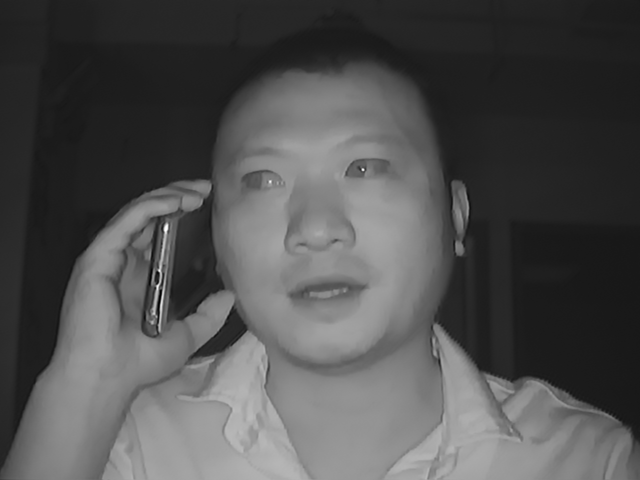hand: (63, 173, 214, 373)
